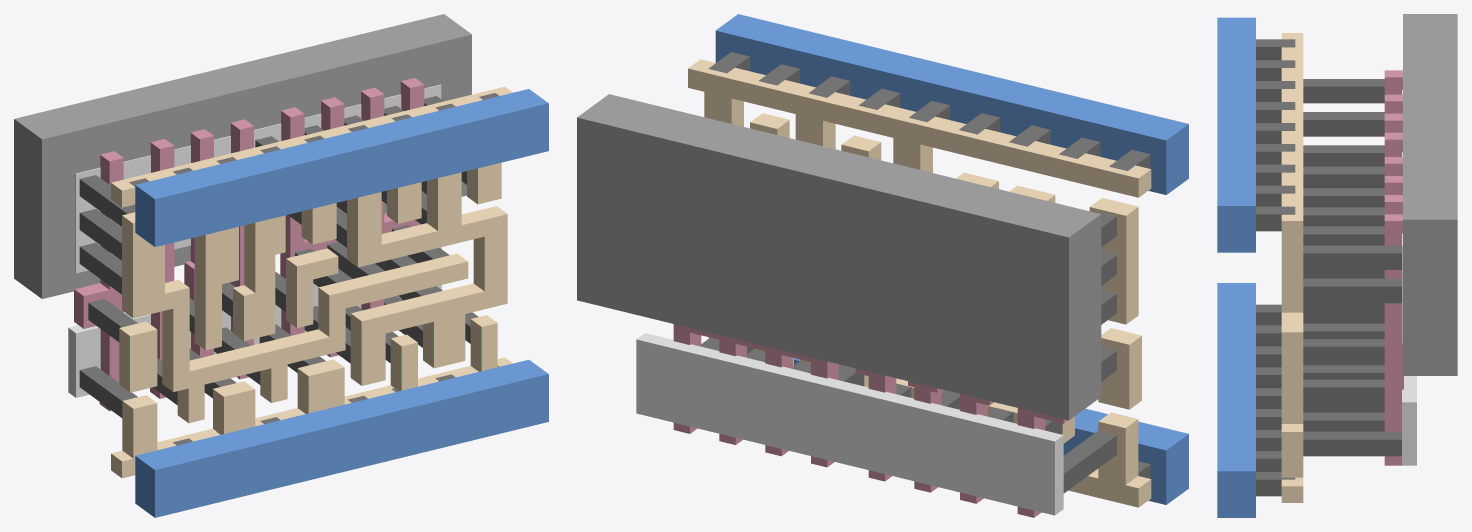
The model's file is sky130_fd_sc_hd__or4_4.gds.gltf.
The picture shows the model from 3 angles, left to right: view 1: azimuth 30°, elevation 25°; view 2: azimuth 150°, elevation 25°; view 3: azimuth 270°, elevation 25°; orthographic projection. The views are drawn at different scales.
Parts seen in each view (by area): view 1: sky130_fd_sc_hd__or4_4_li1, sky130_fd_sc_hd__or4_4_met1, sky130_fd_sc_hd__or4_4_nwell, sky130_fd_sc_hd__or4_4_licon, sky130_fd_sc_hd__or4_4_poly, sky130_fd_sc_hd__or4_4_diff, sky130_fd_sc_hd__or4_4_mcon; view 2: sky130_fd_sc_hd__or4_4_nwell, sky130_fd_sc_hd__or4_4_diff, sky130_fd_sc_hd__or4_4_li1, sky130_fd_sc_hd__or4_4_met1, sky130_fd_sc_hd__or4_4_poly, sky130_fd_sc_hd__or4_4_licon, sky130_fd_sc_hd__or4_4_mcon; view 3: sky130_fd_sc_hd__or4_4_licon, sky130_fd_sc_hd__or4_4_nwell, sky130_fd_sc_hd__or4_4_met1, sky130_fd_sc_hd__or4_4_mcon, sky130_fd_sc_hd__or4_4_li1, sky130_fd_sc_hd__or4_4_poly, sky130_fd_sc_hd__or4_4_diff.
Part boxes in pixels (x1,y1,x2,y2): sky130_fd_sc_hd__or4_4_li1: (111,86,512,478); sky130_fd_sc_hd__or4_4_met1: (135,89,548,517); sky130_fd_sc_hd__or4_4_nwell: (14,14,471,298); sky130_fd_sc_hd__or4_4_licon: (79,96,478,417); sky130_fd_sc_hd__or4_4_poly: (74,78,424,411); sky130_fd_sc_hd__or4_4_diff: (68,84,441,397); sky130_fd_sc_hd__or4_4_mcon: (129,93,499,445); sky130_fd_sc_hd__or4_4_nwell: (577,94,1101,420); sky130_fd_sc_hd__or4_4_diff: (636,333,1063,515); sky130_fd_sc_hd__or4_4_li1: (688,59,1151,507); sky130_fd_sc_hd__or4_4_met1: (715,14,1188,504); sky130_fd_sc_hd__or4_4_poly: (673,324,1067,517); sky130_fd_sc_hd__or4_4_licon: (701,212,1116,493); sky130_fd_sc_hd__or4_4_mcon: (708,52,1150,478); sky130_fd_sc_hd__or4_4_licon: (1303,79,1401,456); sky130_fd_sc_hd__or4_4_nwell: (1403,14,1457,375); sky130_fd_sc_hd__or4_4_met1: (1217,17,1255,517); sky130_fd_sc_hd__or4_4_mcon: (1256,39,1295,496); sky130_fd_sc_hd__or4_4_li1: (1281,33,1303,502); sky130_fd_sc_hd__or4_4_poly: (1384,70,1403,465); sky130_fd_sc_hd__or4_4_diff: (1402,90,1416,465).
Bounding box in the file's own units: 4.52 × 3.2 × 2.24.
